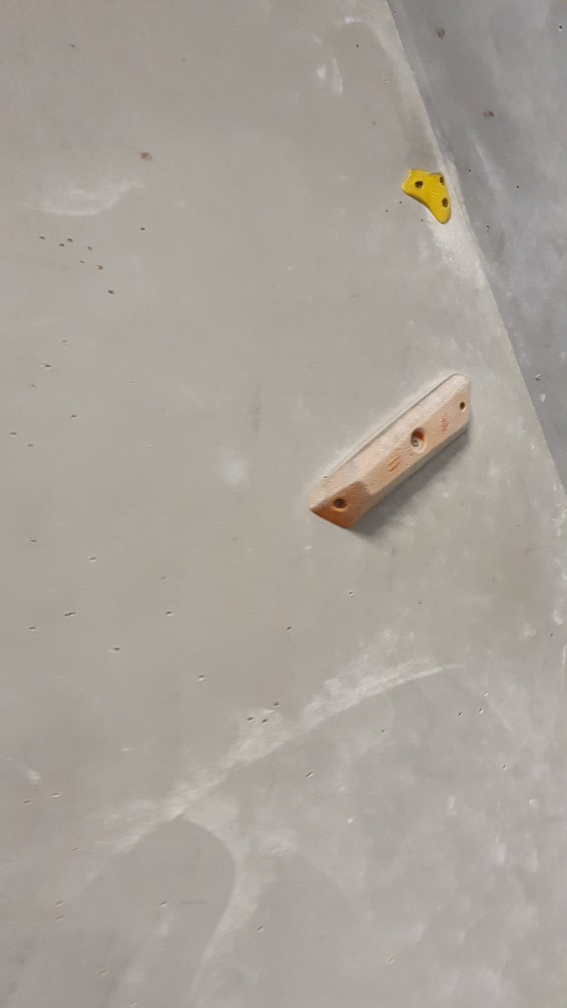Pinch: (304, 369, 474, 532)
